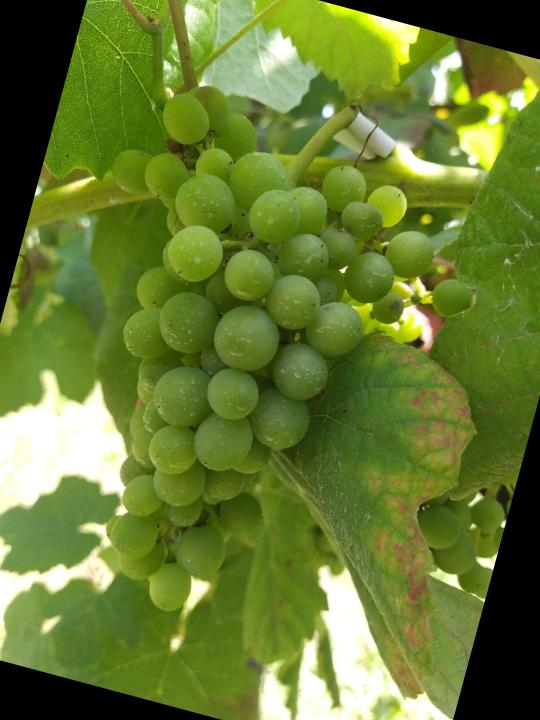grape: (0, 63, 512, 672)
